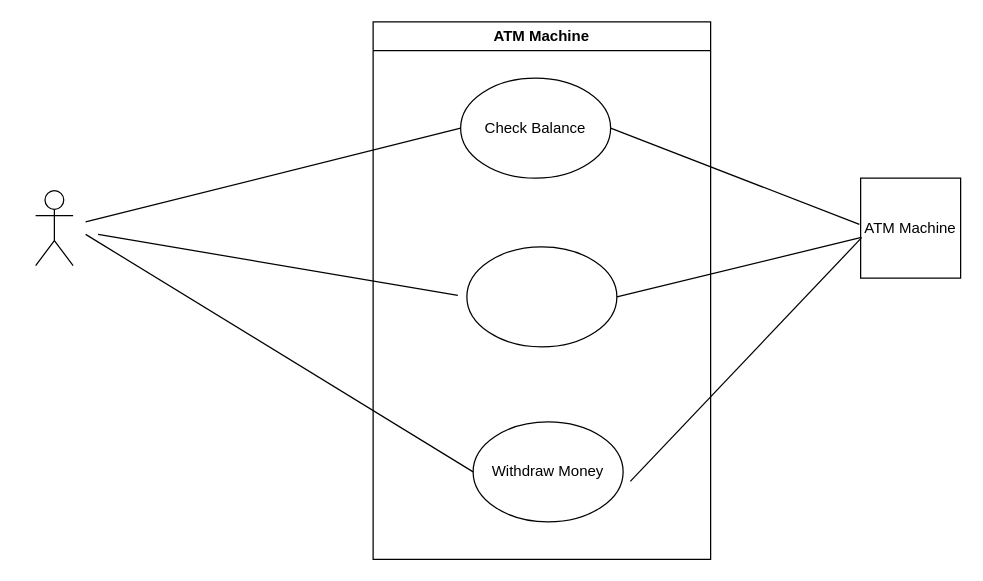
The diagram is 983 pixels wide and 581 high, and some of its shapes have lost their labels. Each missing label, with the centre of its shape:
Customer: the point at 53,227
Deposit Money: the point at 541,296
